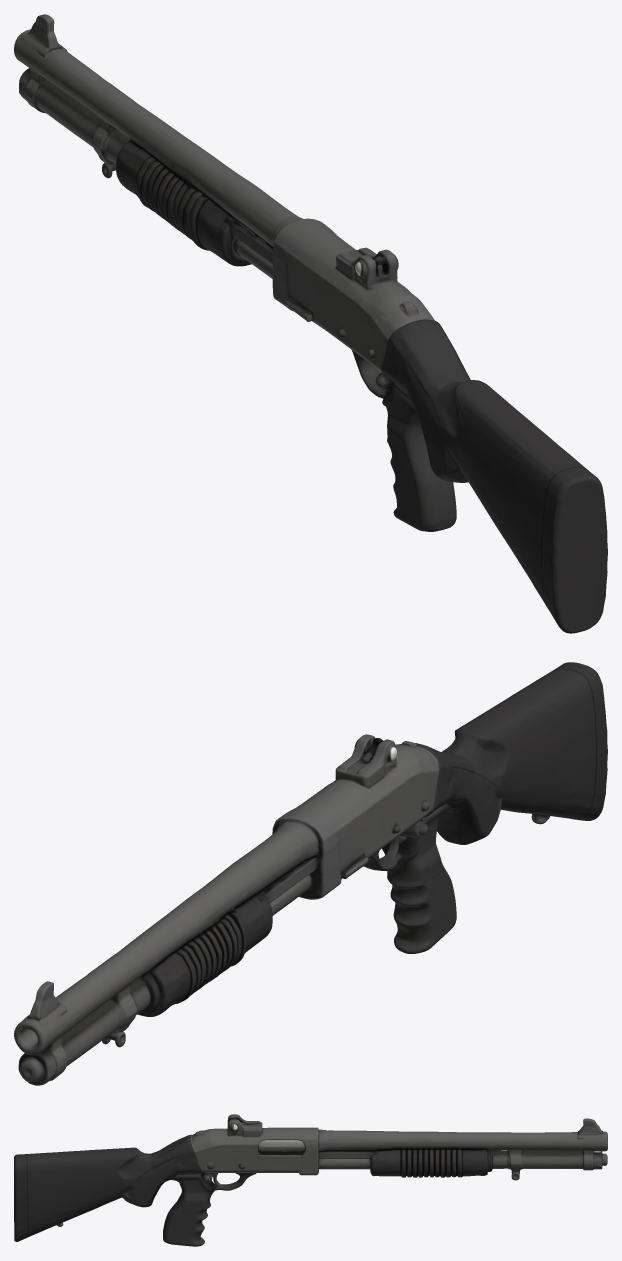
File: w_SG8-KTGW2NHJ.glb
3 views of the same model, one above another, from view 1: azimuth 30°, elevation 25°; view 2: azimuth 150°, elevation 25°; view 3: azimuth 270°, elevation 25° (orthographic). The views are drawn at different scales.
Size of the model in its own units: 0.0624 by 0.2235 by 0.95.
1 material, 1 textured.
